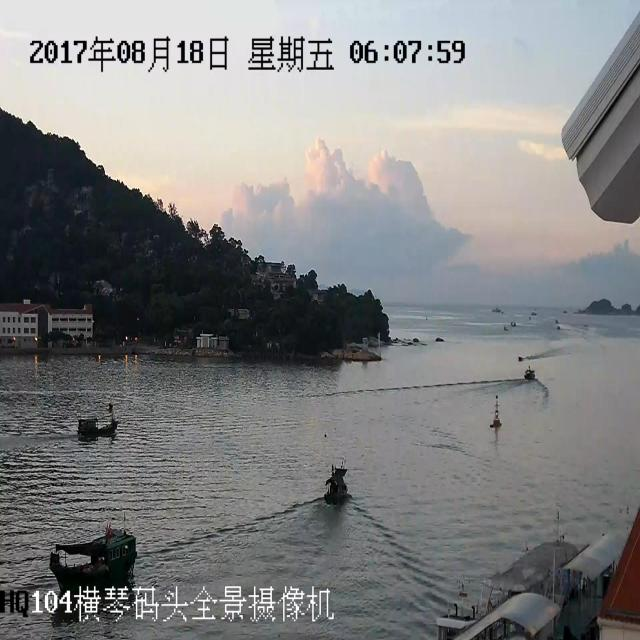buoy: (488, 378, 508, 440)
fishing boat: (42, 514, 148, 596), (63, 400, 132, 450), (319, 443, 355, 516), (522, 354, 540, 386)
